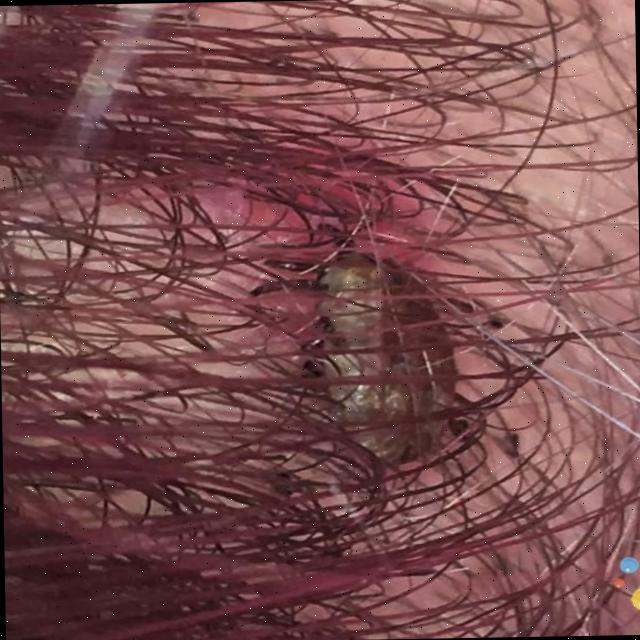kene: (118, 86, 557, 526)
